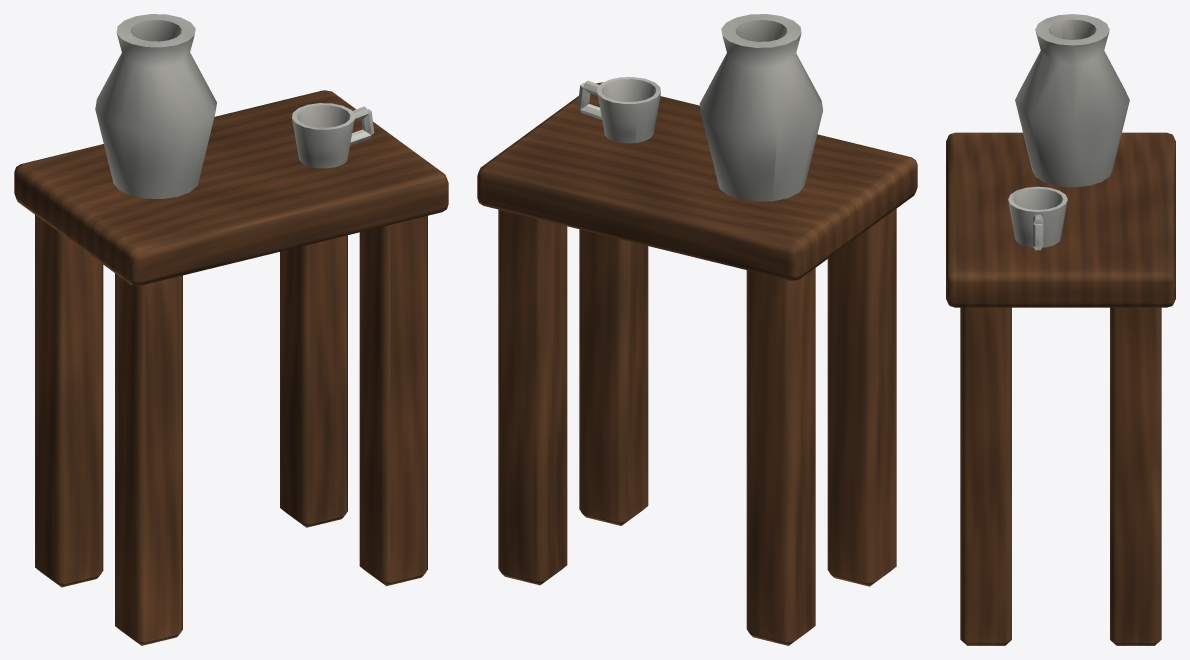
Rendered from Furn_Dress_WaterTable.fbx.
3 renders of one model, left to right at view 1: azimuth 30°, elevation 25°; view 2: azimuth 150°, elevation 25°; view 3: azimuth 270°, elevation 25°, orthographic. The views are drawn at different scales.
Visible parts, largest first — view 1: Furn_Dress_WaterTable; view 2: Furn_Dress_WaterTable; view 3: Furn_Dress_WaterTable.
Part boxes in pixels (x1,y1,x2,y2): Furn_Dress_WaterTable: (14, 14, 448, 645); Furn_Dress_WaterTable: (477, 14, 917, 645); Furn_Dress_WaterTable: (946, 14, 1175, 645).
Bounding box in the file's own units: 0.6 × 1 × 0.4.
Materials: 2 (2 with a texture image).
